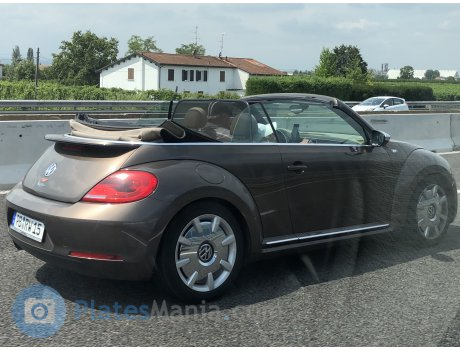License Plates: (12, 209, 50, 240)
